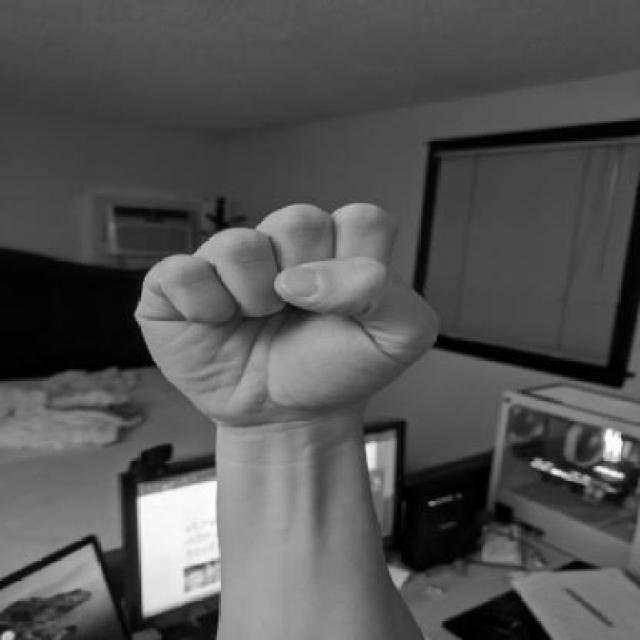S: (128, 198, 446, 432)
